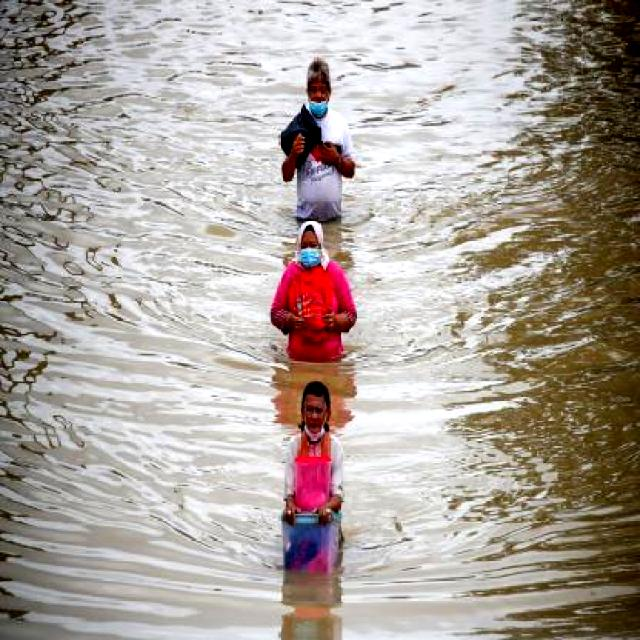civilian: (261, 220, 371, 370), (277, 56, 362, 228), (276, 373, 350, 542)
